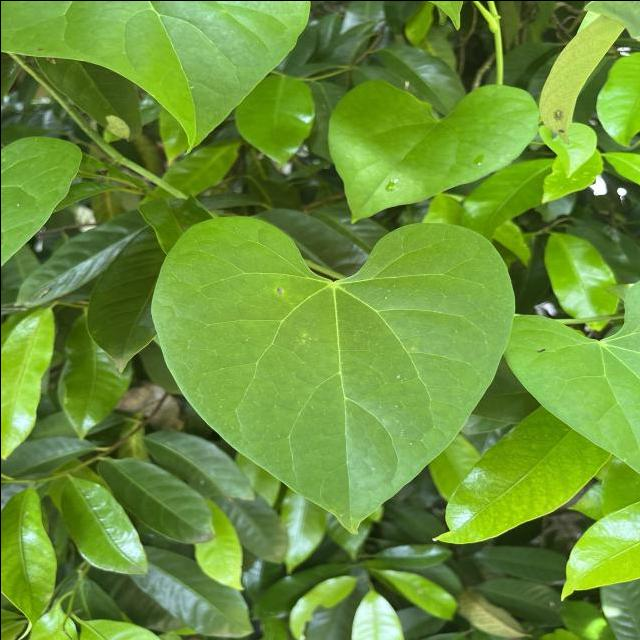Tinospora cordifolia: (147, 210, 518, 536)
